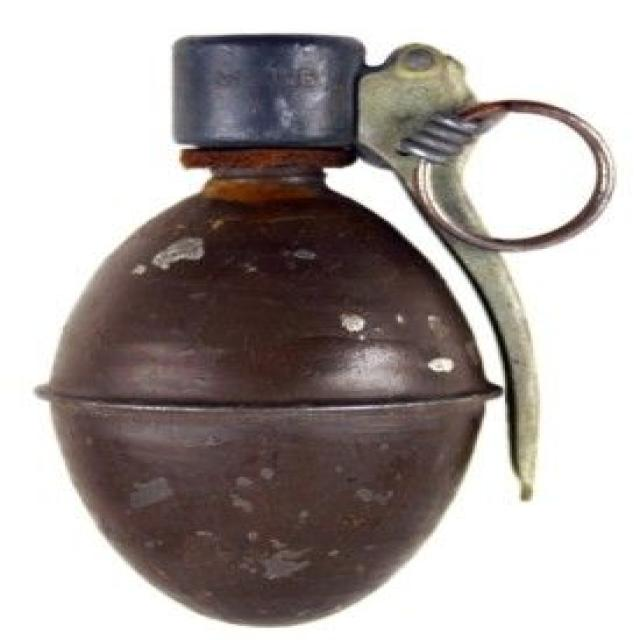bomb: (80, 52, 550, 603)
